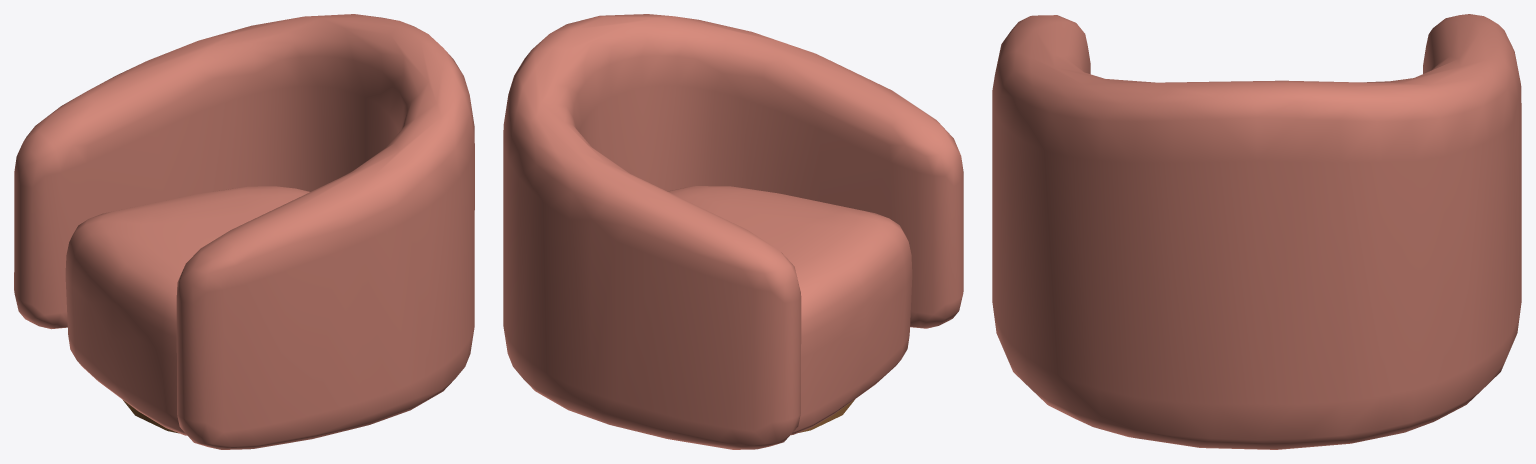
The model's file is armchair_04_salmon.fbx.
3 renders of one model, left to right at view 1: azimuth 30°, elevation 25°; view 2: azimuth 150°, elevation 25°; view 3: azimuth 270°, elevation 25°, orthographic. The views are drawn at different scales.
Parts seen in each view (by area): view 1: armchair_04_salmon; view 2: armchair_04_salmon; view 3: armchair_04_salmon.
Boxes of the visible parts, left/top/right/bottom form: armchair_04_salmon: left=14, top=14, right=474, bottom=449; armchair_04_salmon: left=503, top=14, right=963, bottom=449; armchair_04_salmon: left=992, top=14, right=1521, bottom=449.
Size of the model in its own units: 115 by 99.69 by 122.
2 materials, 2 textured.
